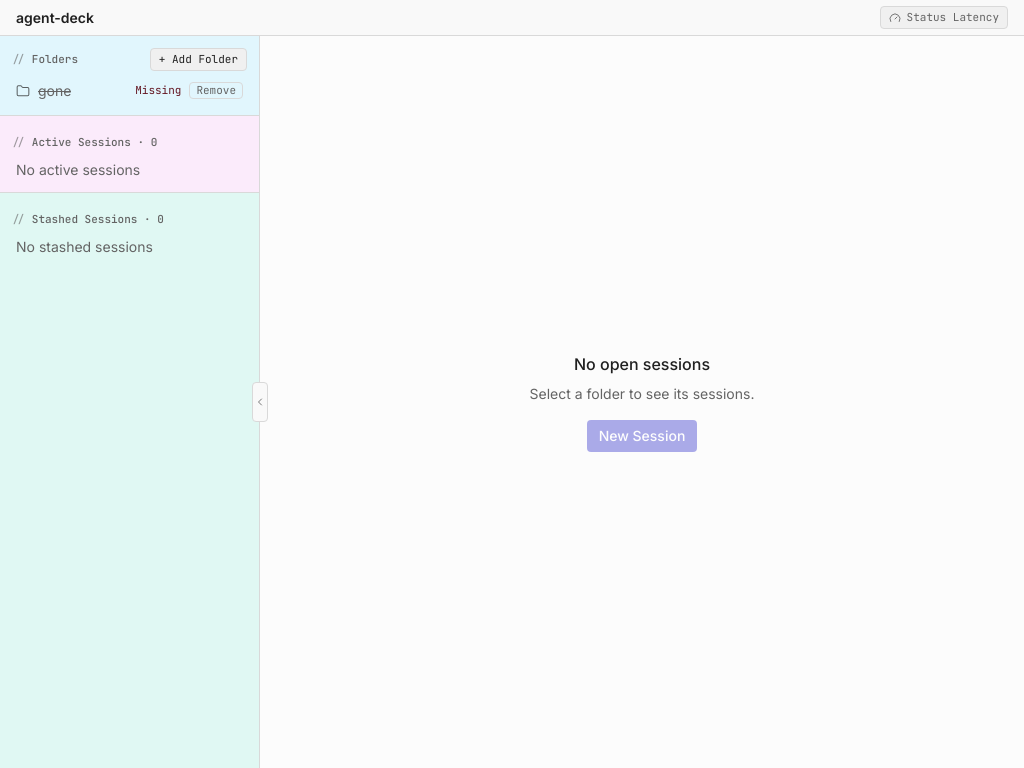
Test: New Session (5.4) › refuses a missing folder with Folder not found and does not open
This screenshot has width=1024, height=768.
Click the text "gone".
click(55, 90)  # box x1=38 y1=80 x2=71 y2=100
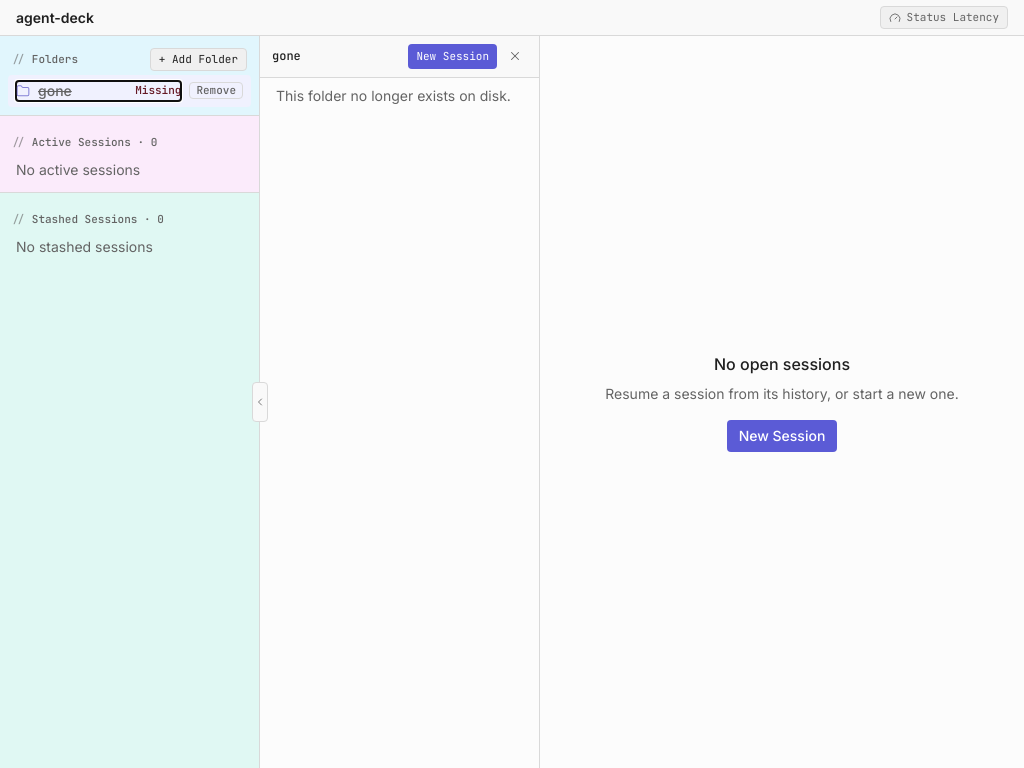
Click the 1st button "New Session".
click(453, 56)  # box x1=408 y1=44 x2=497 y2=68
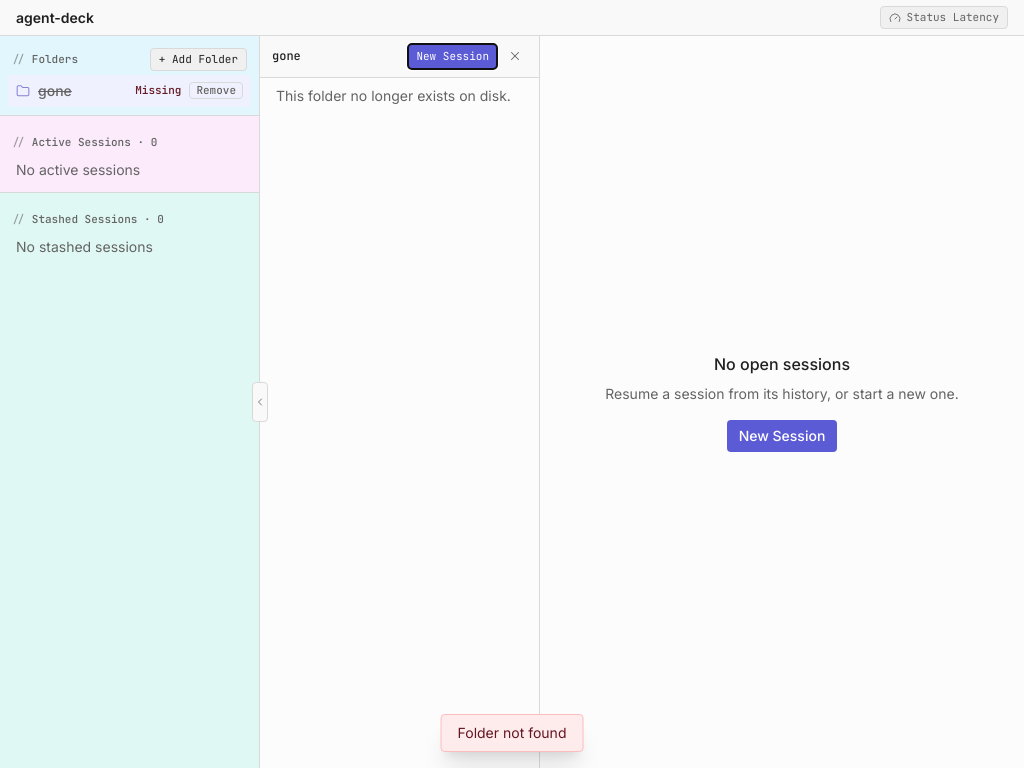
Result: the text "Folder not found" is shown at x1=440 y1=714 x2=583 y2=752
